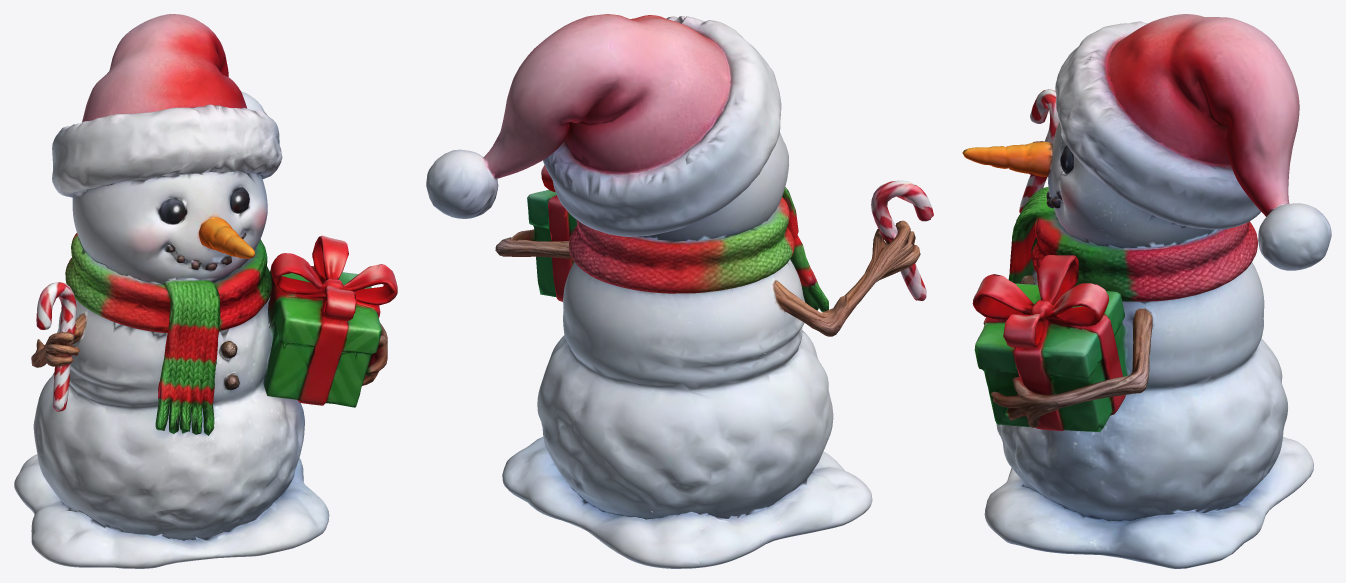
Rendered from snowman.glb.
3 views of the same model, side by side, from view 1: azimuth 30°, elevation 25°; view 2: azimuth 150°, elevation 25°; view 3: azimuth 270°, elevation 25° (orthographic). The views are drawn at different scales.
Parts seen in each view (by area): view 1: tripo_node_b70c1b40-57f7-4e5f-8a65-3cf8f28ff212; view 2: tripo_node_b70c1b40-57f7-4e5f-8a65-3cf8f28ff212; view 3: tripo_node_b70c1b40-57f7-4e5f-8a65-3cf8f28ff212.
Boxes of the visible parts, bbox=[...] form: tripo_node_b70c1b40-57f7-4e5f-8a65-3cf8f28ff212: bbox=[14, 14, 397, 568]; tripo_node_b70c1b40-57f7-4e5f-8a65-3cf8f28ff212: bbox=[426, 14, 933, 568]; tripo_node_b70c1b40-57f7-4e5f-8a65-3cf8f28ff212: bbox=[962, 14, 1331, 568].
Size of the model in its own units: 0.8019 by 0.98 by 0.6669.
1 material, 1 textured.
